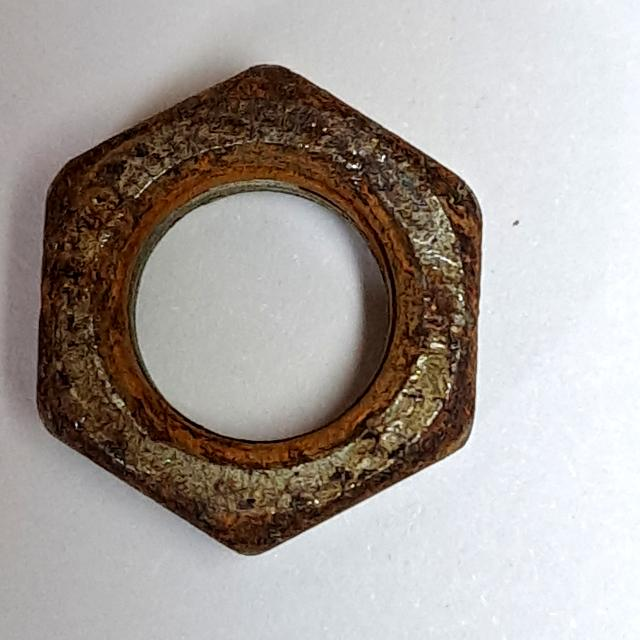Rust: (21, 51, 494, 567)
